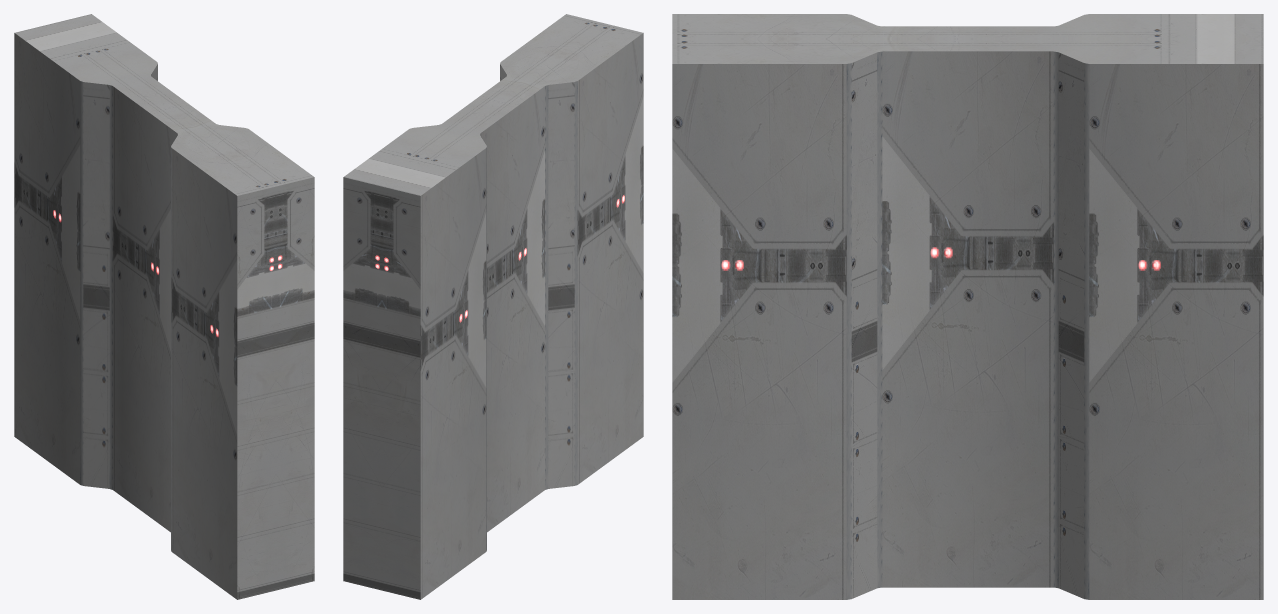
The model's file is SM_WallS013b6.fbx.
3 renders of one model, left to right at view 1: azimuth 30°, elevation 25°; view 2: azimuth 150°, elevation 25°; view 3: azimuth 270°, elevation 25°, orthographic. The views are drawn at different scales.
Visible parts, largest first — view 1: SM_WallS013b6_LOD0; view 2: SM_WallS013b6_LOD0; view 3: SM_WallS013b6_LOD0.
Boxes of the visible parts, x1,y1,x2,y2 form: SM_WallS013b6_LOD0: (14,14,314,599); SM_WallS013b6_LOD0: (343,14,643,599); SM_WallS013b6_LOD0: (672,14,1263,599).
Size of the model in its own units: 80 by 400 by 400.
2 materials, 2 textured.
